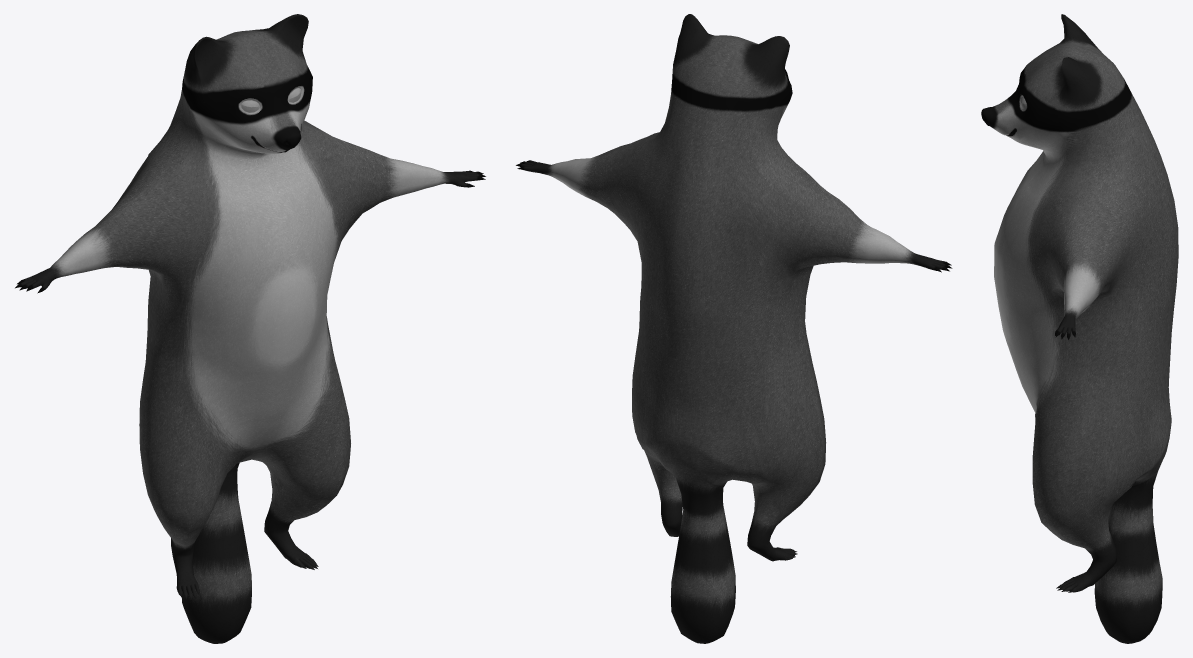
Rendered from Cub.fbx.
The picture shows the model from 3 angles, left to right: view 1: azimuth 30°, elevation 25°; view 2: azimuth 150°, elevation 25°; view 3: azimuth 270°, elevation 25°; orthographic projection. The views are drawn at different scales.
Parts seen in each view (by area): view 1: Racoon_FINAL; view 2: Racoon_FINAL; view 3: Racoon_FINAL.
Part boxes in pixels (x1,y1,x2,y2): Racoon_FINAL: (15, 14, 485, 643); Racoon_FINAL: (516, 14, 952, 643); Racoon_FINAL: (981, 14, 1178, 643).
Size of the model in its own units: 0.6218 by 0.8102 by 0.2396.
